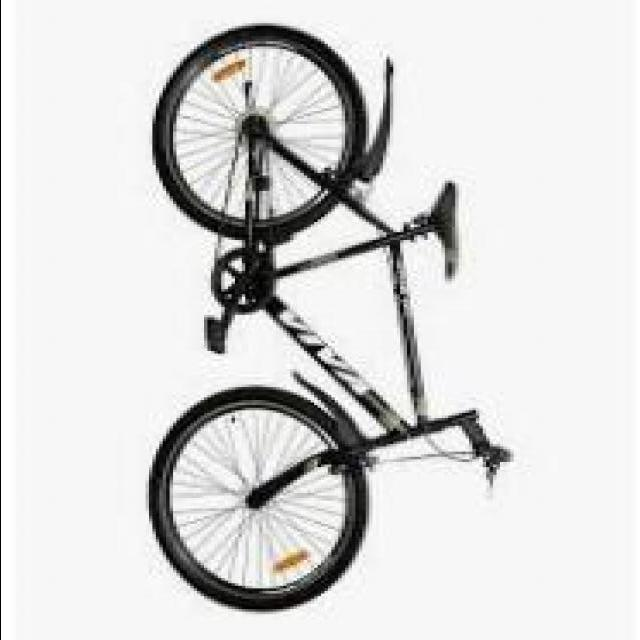bicycle: (153, 27, 493, 610)
